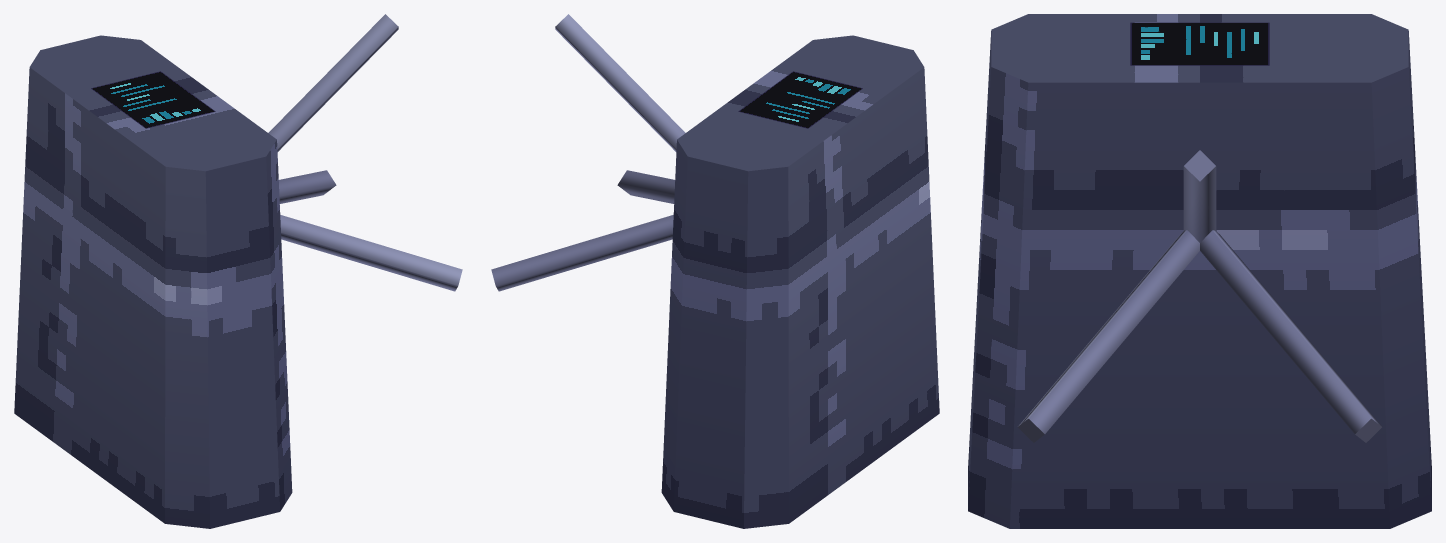
File: cyroom.turnstile.glb
The picture shows the model from 3 angles, left to right: view 1: azimuth 30°, elevation 25°; view 2: azimuth 150°, elevation 25°; view 3: azimuth 270°, elevation 25°; orthographic projection. The views are drawn at different scales.
Parts seen in each view (by area): view 1: kit_body, kit_card_details; view 2: kit_body, kit_card_details; view 3: kit_body, kit_card_details.
Part boxes in pixels (<box>): kit_body: <box>14,14,462,528</box>; kit_card_details: <box>91,71,215,128</box>; kit_body: <box>491,14,939,528</box>; kit_card_details: <box>738,71,862,128</box>; kit_body: <box>968,14,1431,528</box>; kit_card_details: <box>1130,22,1269,65</box>.
Bounding box in the file's own units: 0.9708 × 1.15 × 1.
3 materials, 2 textured.
